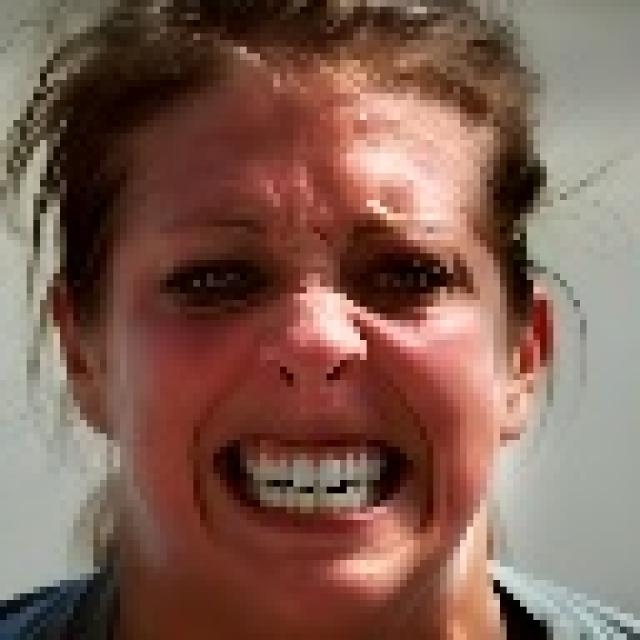angry: (14, 0, 557, 640)
